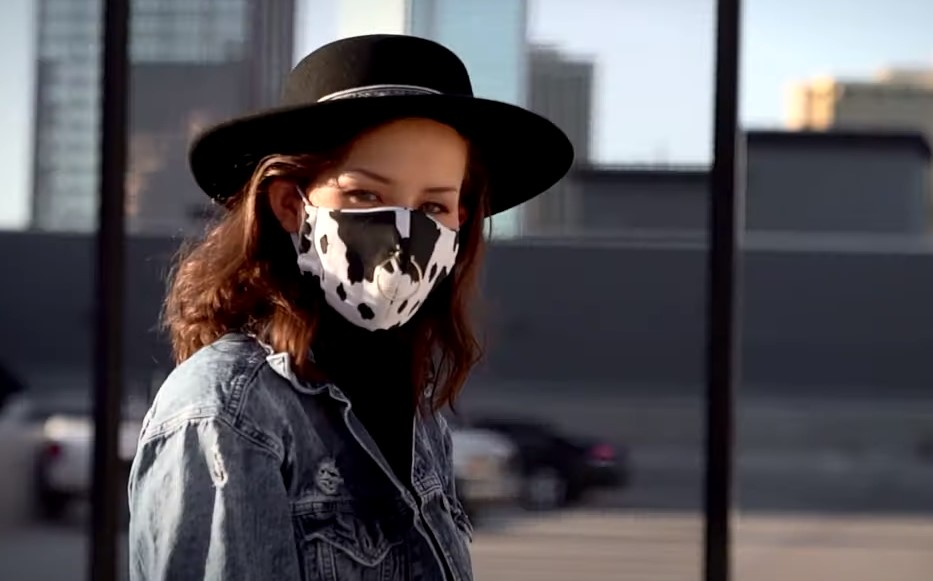face_with_mask: (269, 82, 488, 334)
